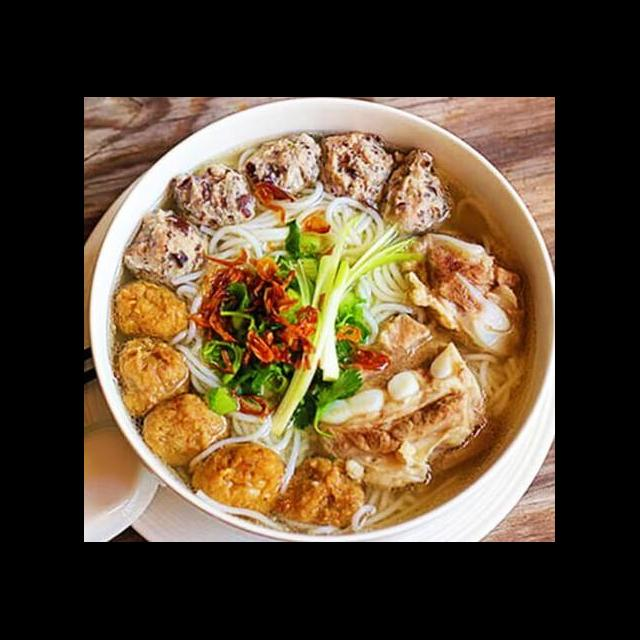bun: (334, 192, 418, 330), (164, 278, 238, 402), (214, 192, 350, 258), (225, 398, 316, 474), (460, 344, 526, 419)
vien moc: (116, 206, 210, 294), (314, 127, 400, 210), (376, 148, 456, 236), (165, 160, 262, 232), (238, 124, 328, 200)
